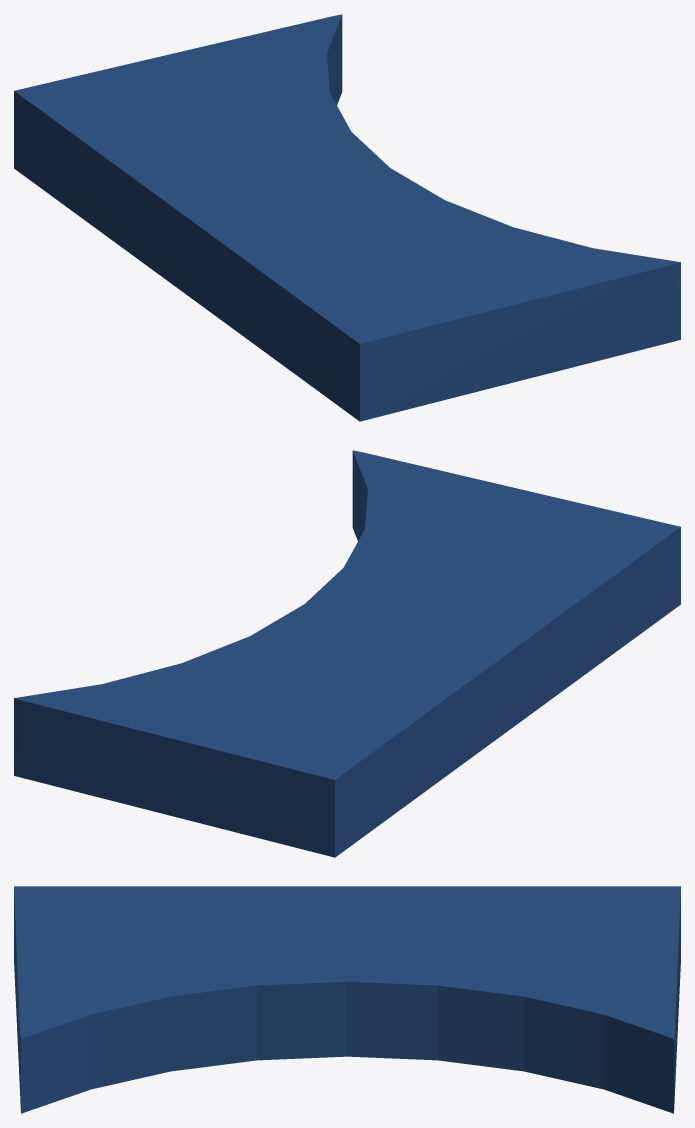
File: VIS_WristSlider1.dae
3 views of the same model, one above another, from view 1: azimuth 30°, elevation 25°; view 2: azimuth 150°, elevation 25°; view 3: azimuth 270°, elevation 25° (orthographic). The views are drawn at different scales.
Visible parts, largest first — view 1: VIS_WristSlider1; view 2: VIS_WristSlider1; view 3: VIS_WristSlider1.
Boxes of the visible parts, x1,y1,x2,y2 form: VIS_WristSlider1: (14, 14, 680, 421); VIS_WristSlider1: (14, 450, 680, 857); VIS_WristSlider1: (14, 886, 680, 1113).
Size of the model in its own units: 0.035 by 0.0645 by 0.00799.
